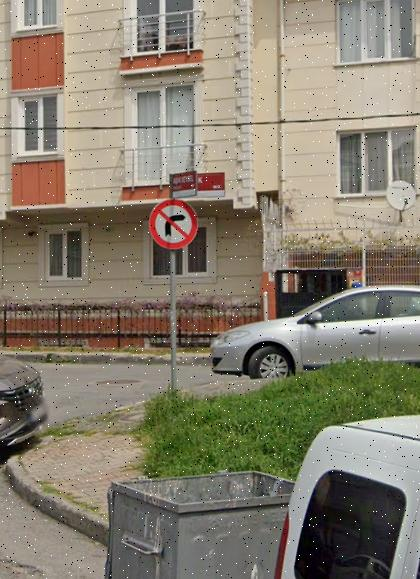rightturnsareforbidden: (151, 196, 200, 252)
